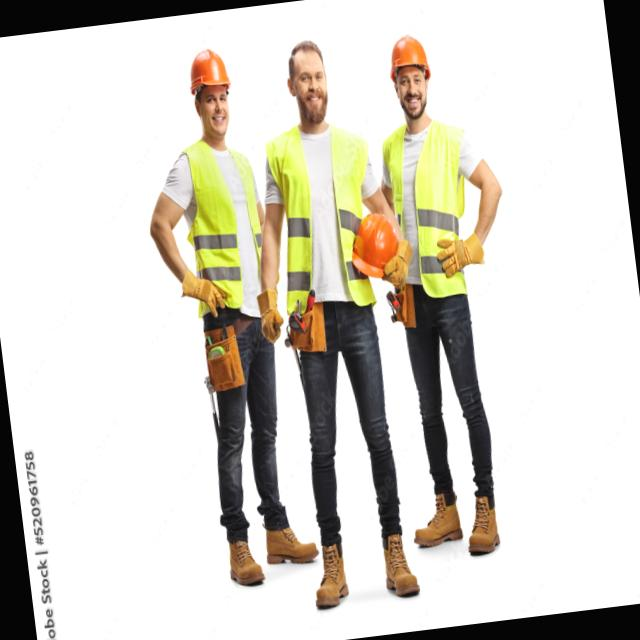helmet: (346, 212, 404, 284), (382, 28, 433, 92), (184, 44, 234, 102)
no-goggles: (194, 84, 228, 114), (294, 68, 329, 94), (394, 72, 426, 91)
no-helmet: (278, 24, 326, 70)
vest: (260, 114, 390, 328), (172, 129, 286, 327), (375, 112, 480, 310)
